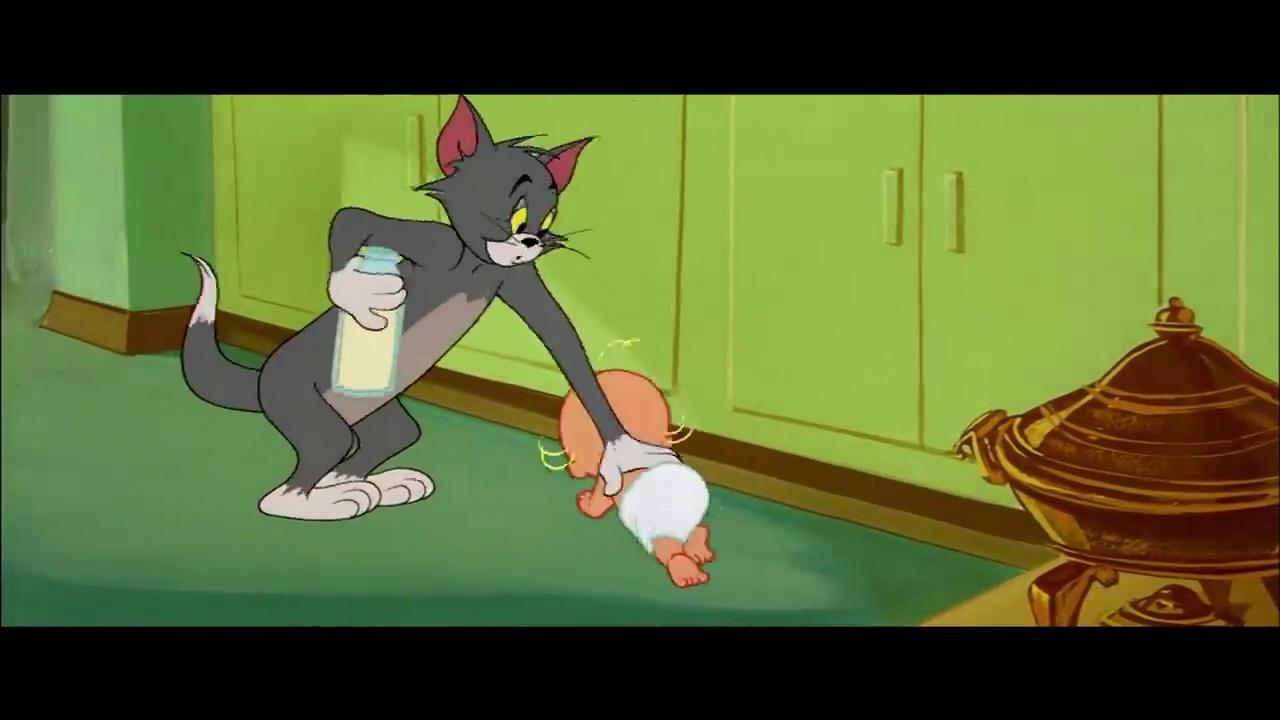Tom: (173, 93, 683, 521)
